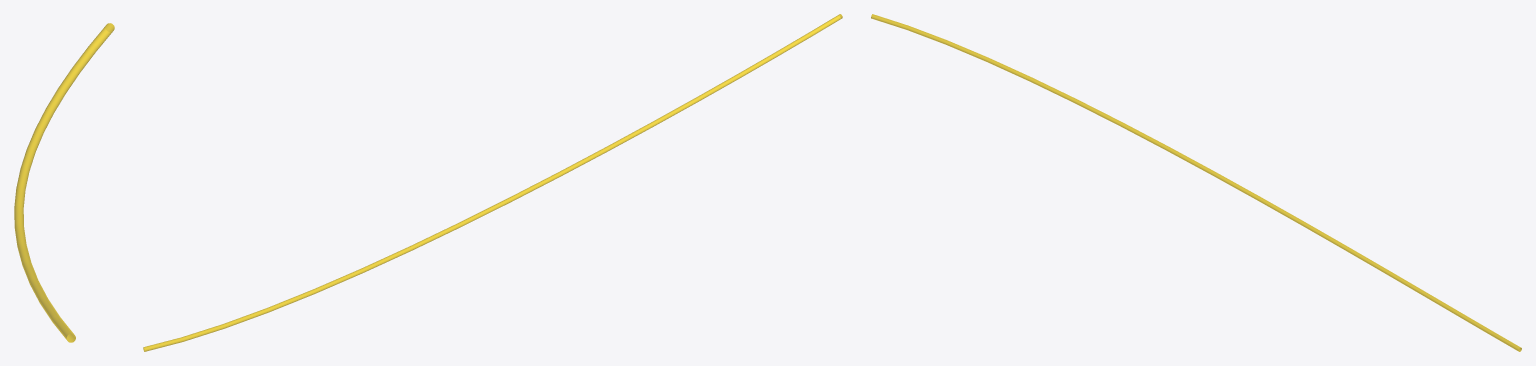
The model's file is Event_75125125_track_53.fbx.
3 renders of one model, left to right at view 1: azimuth 90°, elevation 25°; view 2: azimuth 210°, elevation 25°; view 3: azimuth 330°, elevation 25°, orthographic. The views are drawn at different scales.
Visible parts, largest first — view 1: Model; view 2: Model; view 3: Model.
Part boxes in pixels (x1=…): Model: x1=14, y1=23, x2=114, y2=342; Model: x1=143, y1=14, x2=842, y2=351; Model: x1=871, y1=14, x2=1521, y2=351.
Bounding box in the file's own units: 6.44 × 1.59 × 0.4249.
